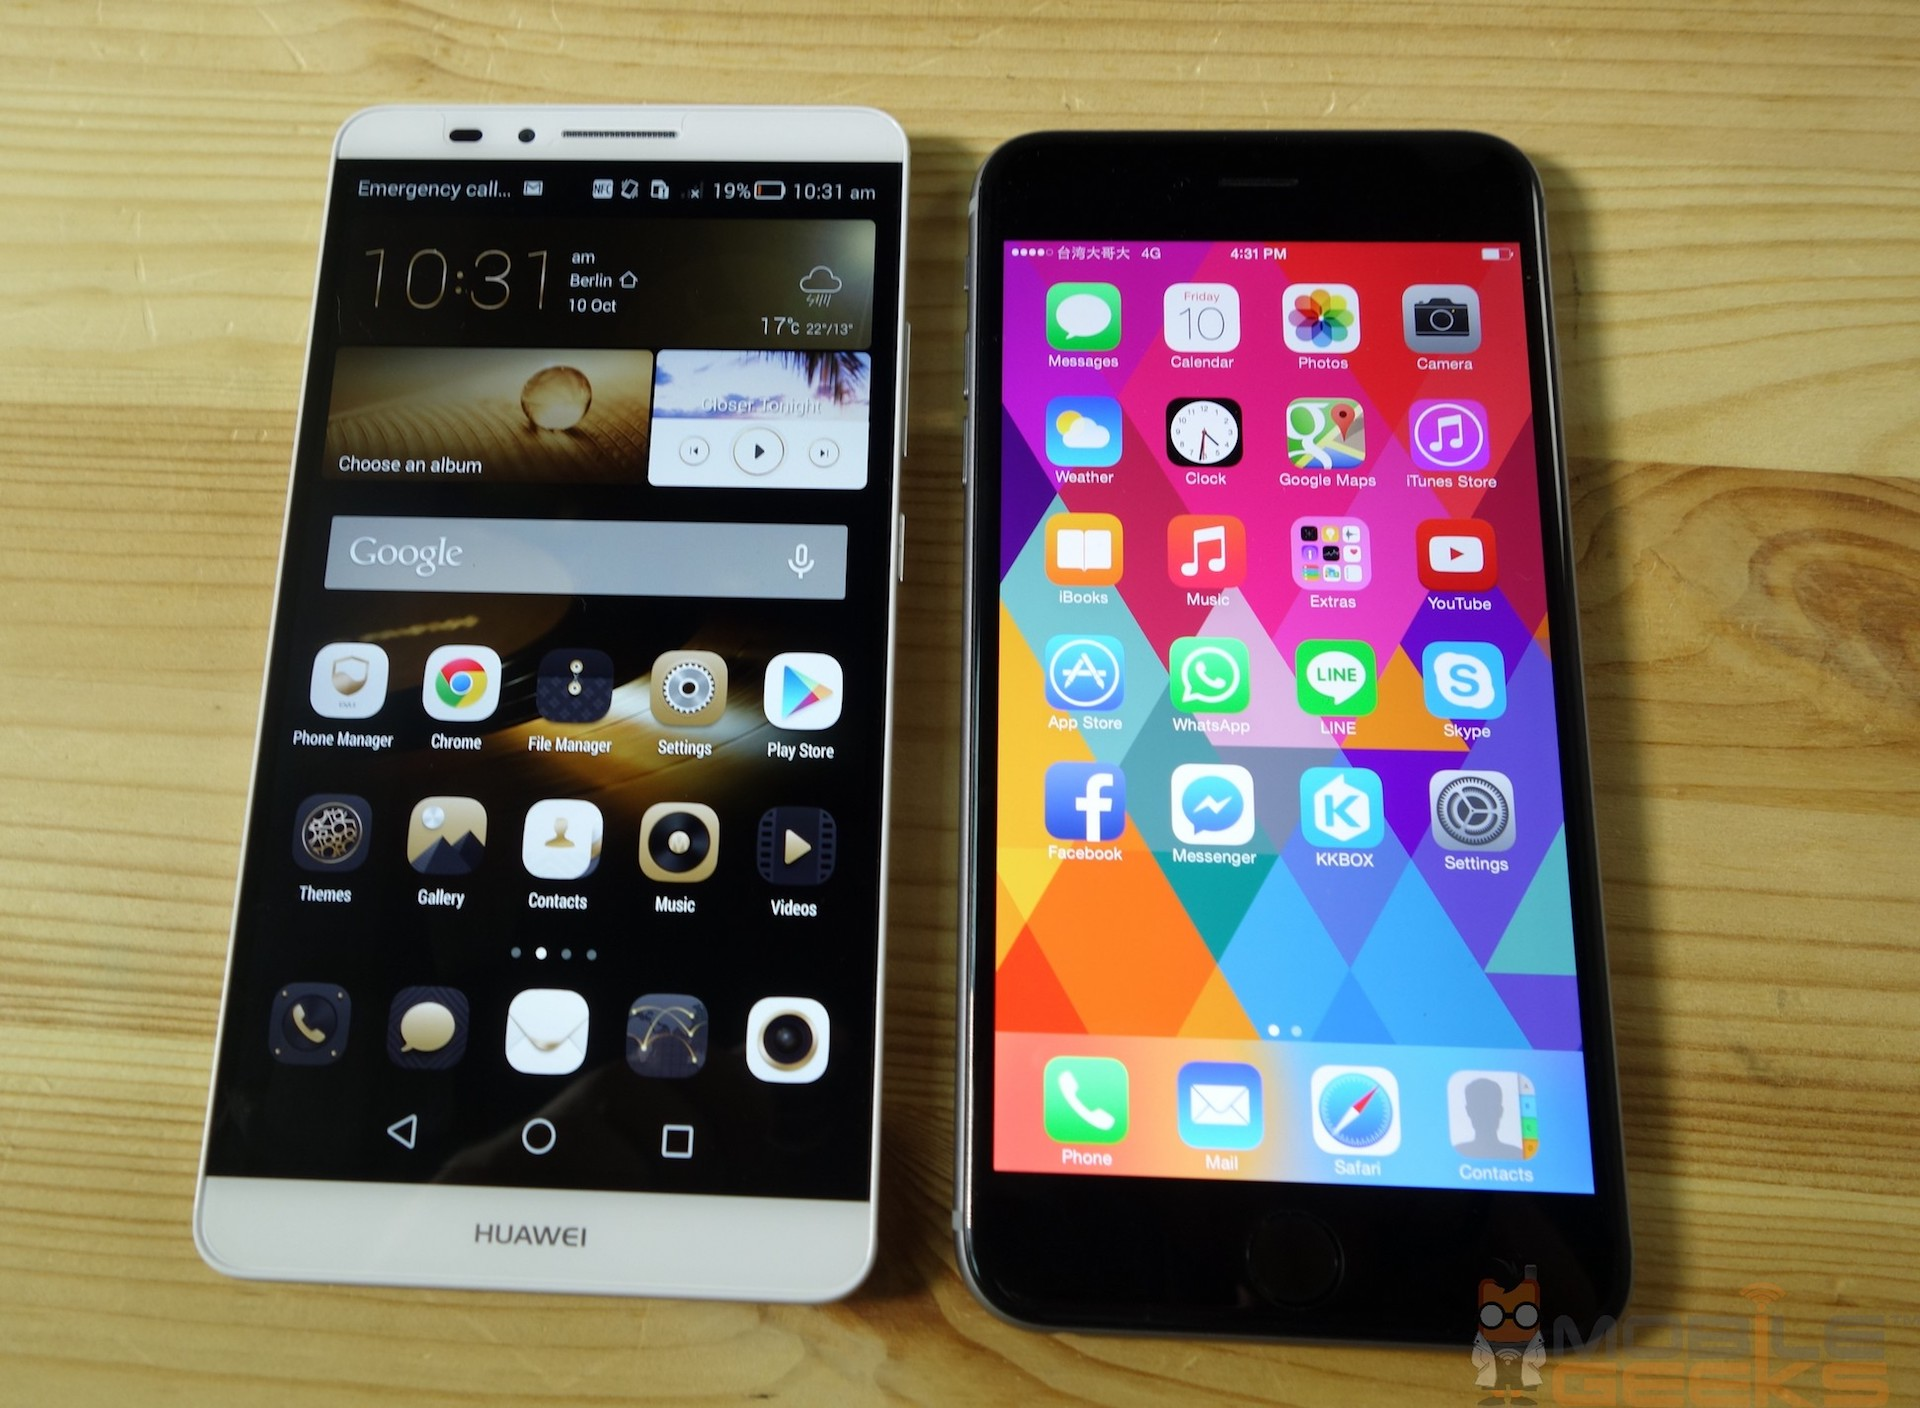smartphone: (183, 98, 917, 1311), (950, 124, 1641, 1359)
